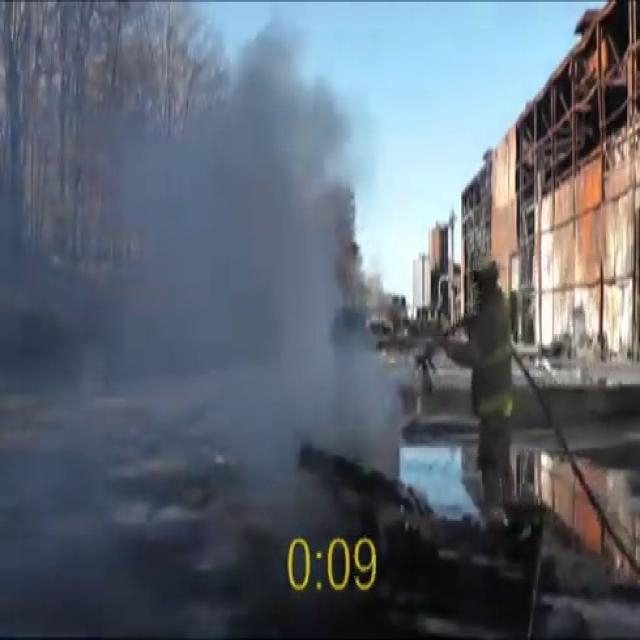Smoke: (1, 1, 400, 582)
